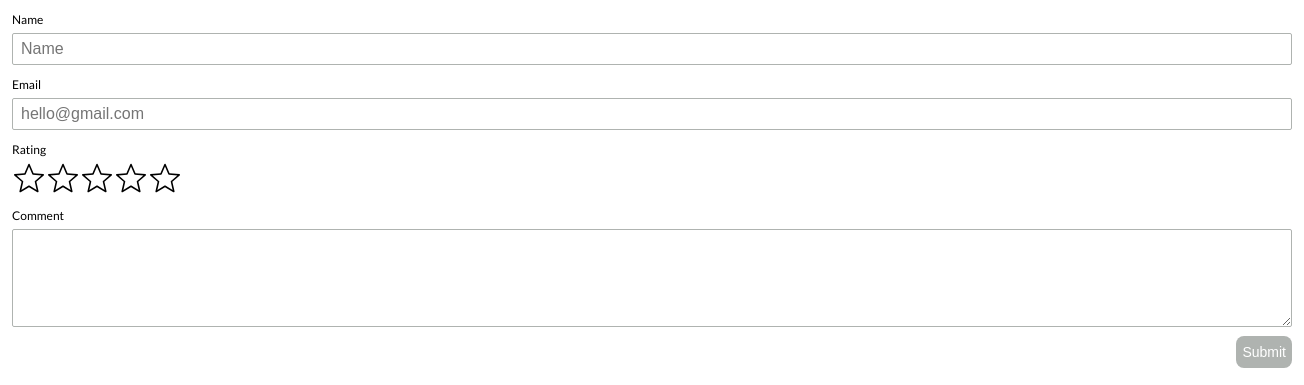
enables the submit button when all form data is present
Check: the button with test id "feedback-form-submit-button" is disabled, box [1236, 336, 1292, 368]
In the field with test id "feedback-form-name-input": [652, 49] box [12, 33, 1292, 65], type "Namey McNameFace"
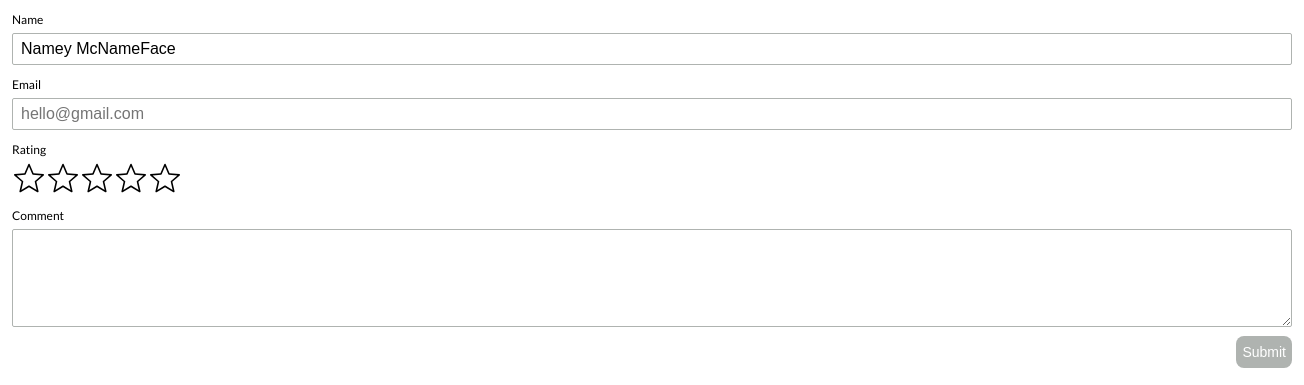
In the field with test id "feedback-form-email-input": [652, 114] box [12, 98, 1292, 130], type "Namey@mcnameface.com"
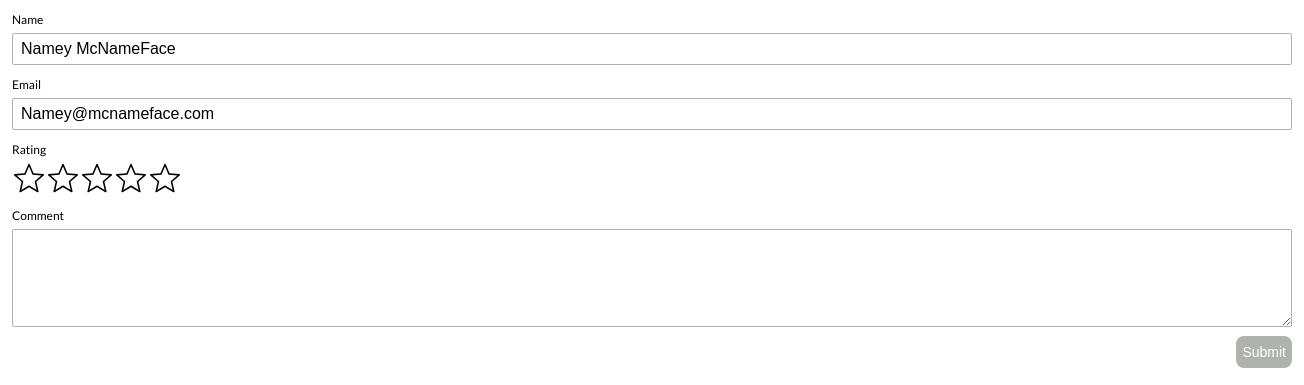
In the text box with test id "feedback-form-comment-input": [652, 278] box [12, 229, 1292, 327], type "No boats got named after me :("
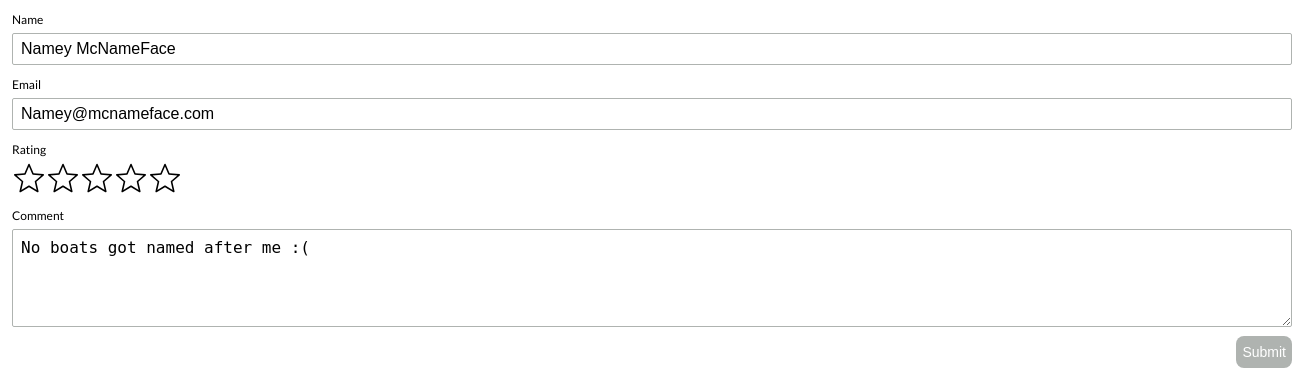
Click the radio button with test id "rating-input-2": [63, 186] box [46, 177, 80, 196]
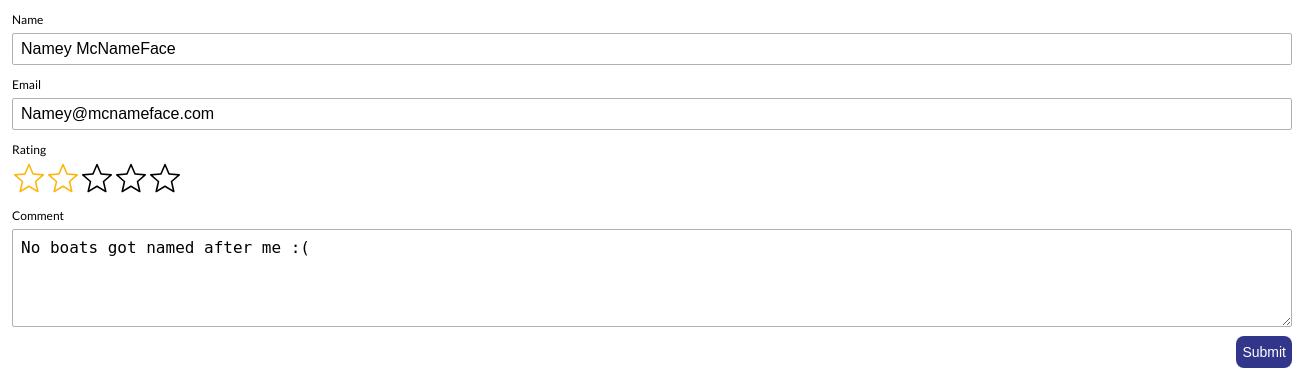
Check: the button with test id "feedback-form-submit-button" is enabled, box [1236, 336, 1292, 368]
